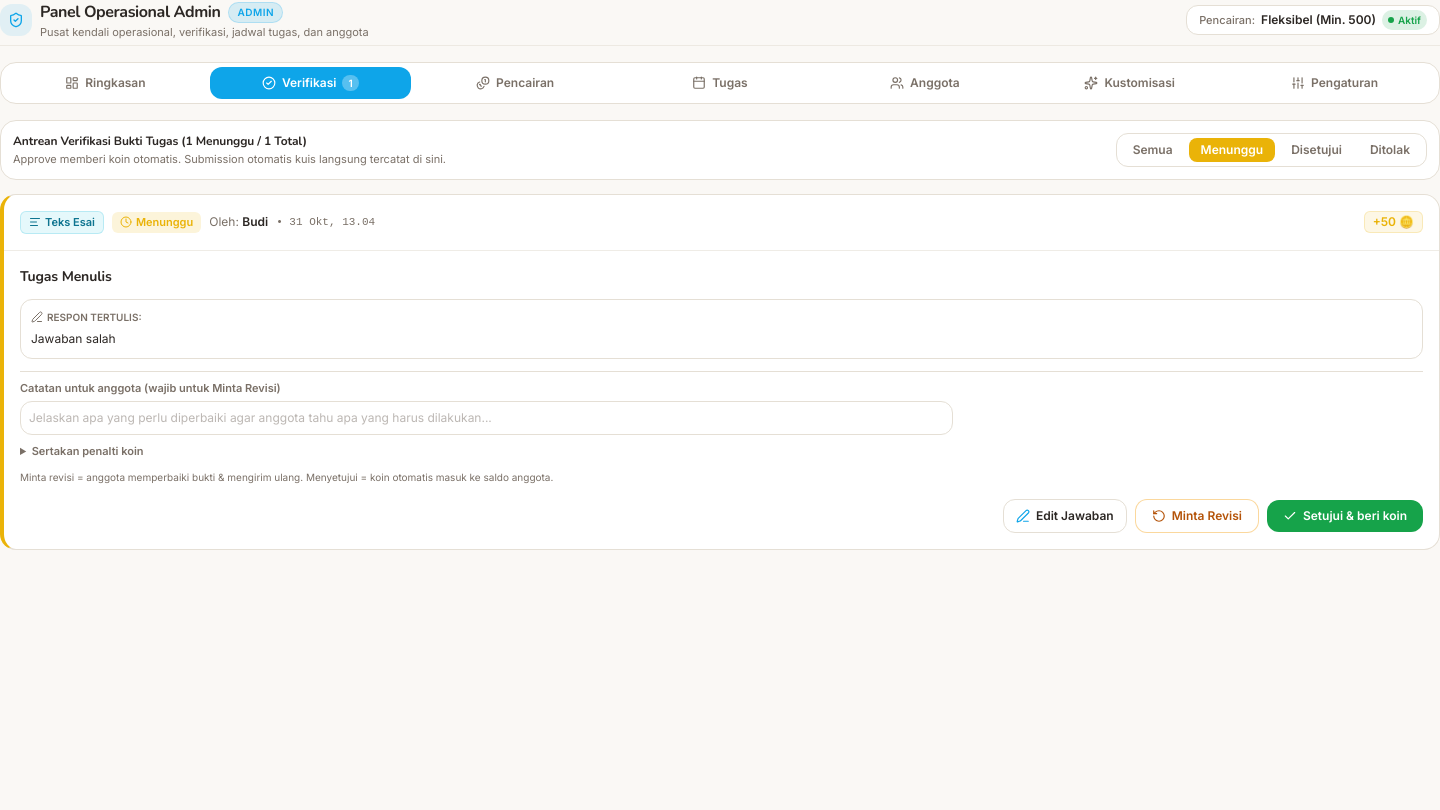
Test: AdminPage Component › renders pending submission with edit and minta revisi with penalty buttons
The width and height of the screenshot is (1440, 810).
Expected: the heading "Tugas Menulis" is shown, [20,266,112,286]
Expected: the text "Edit Jawaban" is shown, [1036,508,1114,524]
Note: Click Edit Jawaban button
Click the button "Edit Jawaban". click: {"x": 1065, "y": 516}
box: [1003,499,1127,533]
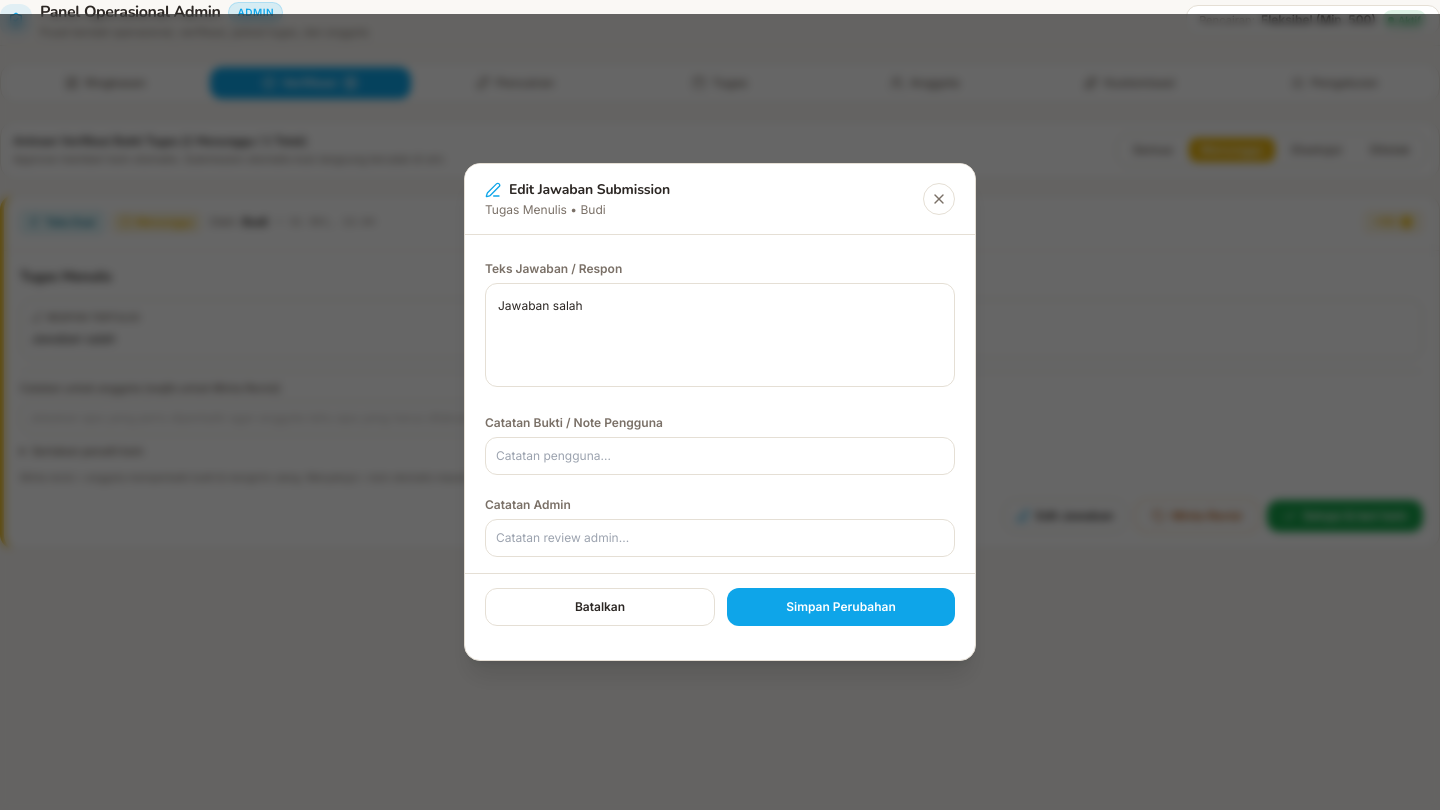
Expected: the text "Edit Jawaban Submission" is shown, [509,180,670,200]
Expected: the text box showing "Jawaban salah" is shown, [485,283,955,387]
